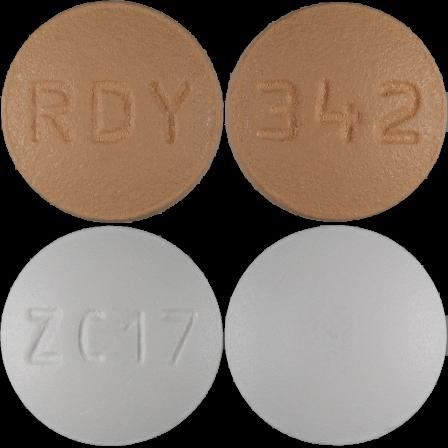54458-981: (0, 0, 224, 224)
